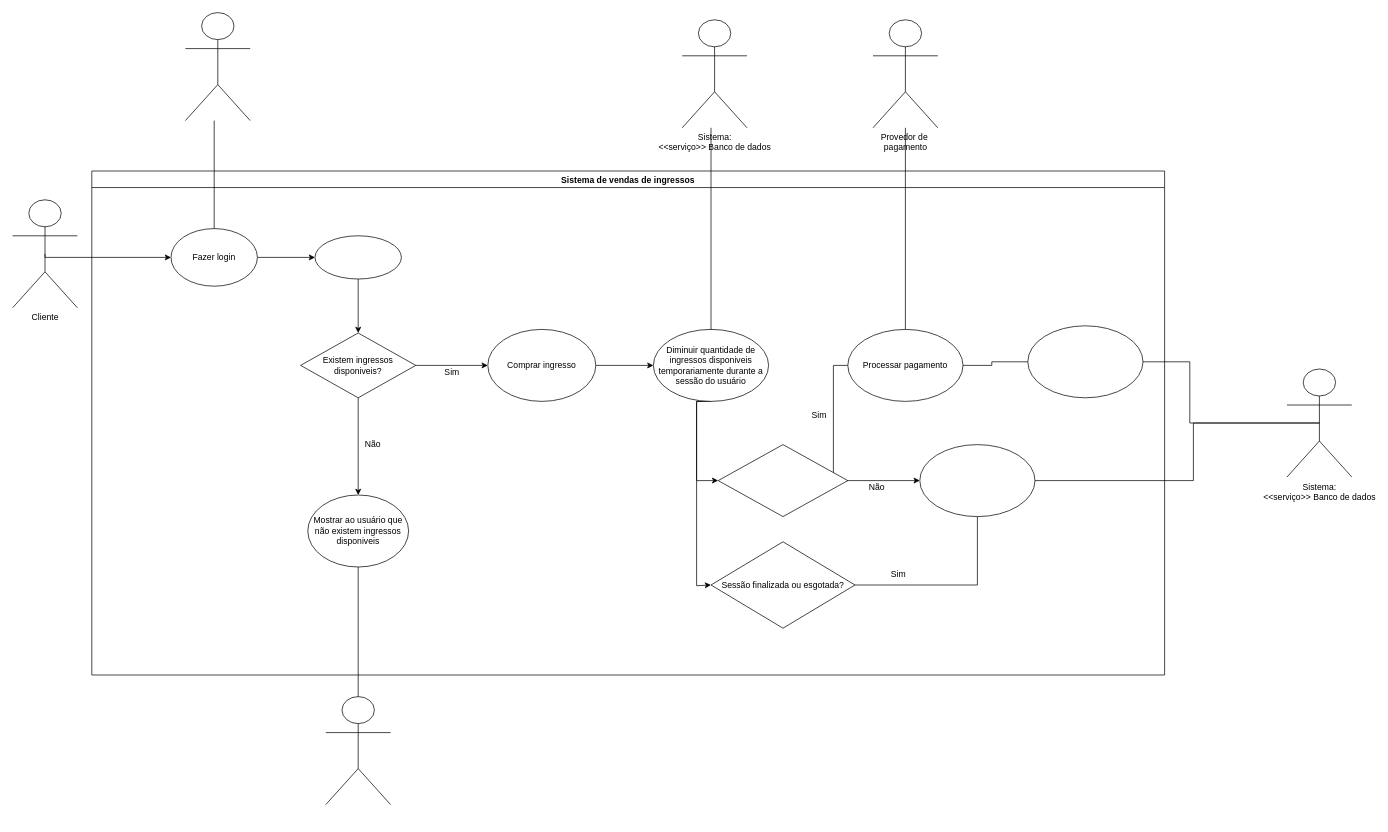
Image size: 1388x832. Some labels were removed from this diagram. Here are the shapes that lost their labels. From the top down, the box of each, then its label:
(185, 12, 250, 121): Sistema: <<serviço>>Autenticação
(314, 235, 401, 279): Selecionar ingresso para comprar
(1027, 325, 1143, 398): Diminuir quantidade de ingressos disponiveis permanentemente
(717, 444, 848, 517): Finalizou a compra?
(919, 444, 1035, 517): Aumentar quantidade de ingressos disponiveis
(325, 696, 391, 805): Sistema
